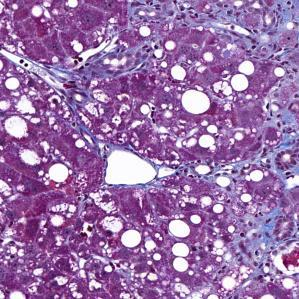fibrosis: (216, 0, 298, 61), (263, 69, 299, 189), (122, 0, 238, 33), (55, 56, 121, 110), (242, 214, 283, 276)
